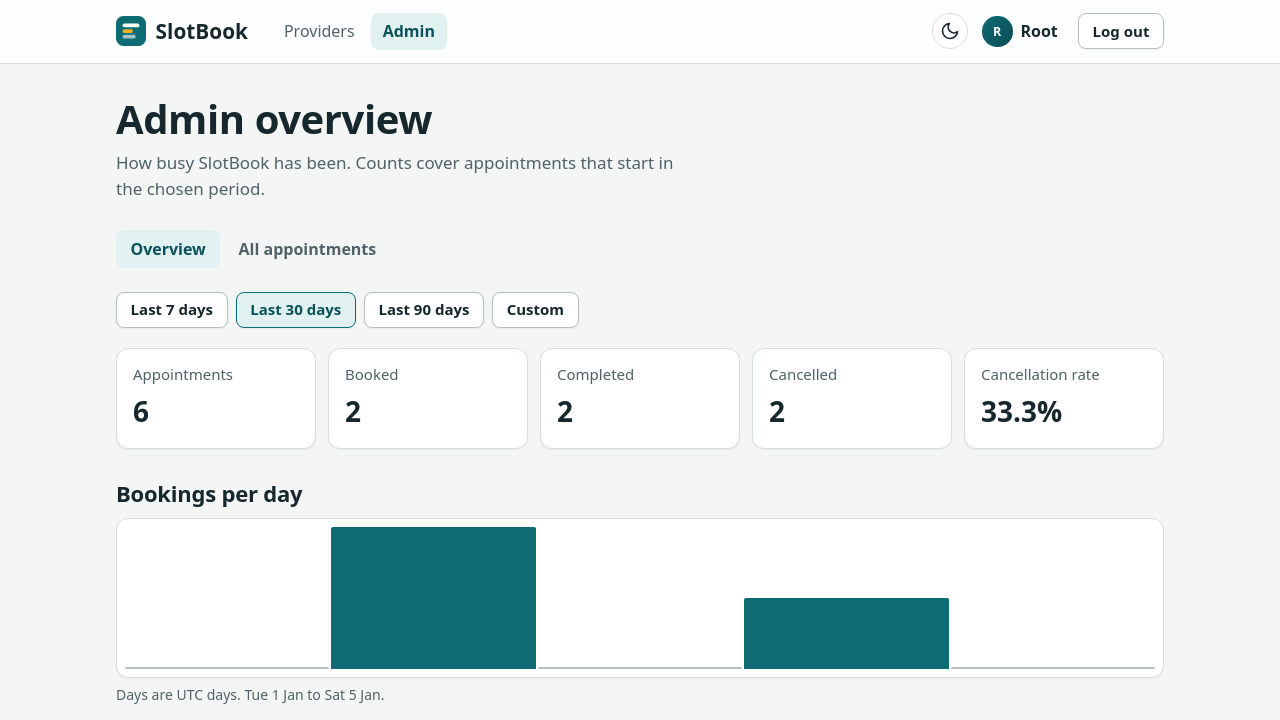
Test: admin overview › waits for both custom dates before asking the server
This screenshot has width=1280, height=720.
Expected: the picture named "Bookings per day" is shown, x1=116 y1=518 x2=1164 y2=678
Click the button "Custom" at (535, 310), box x1=492 y1=292 x2=579 y2=328
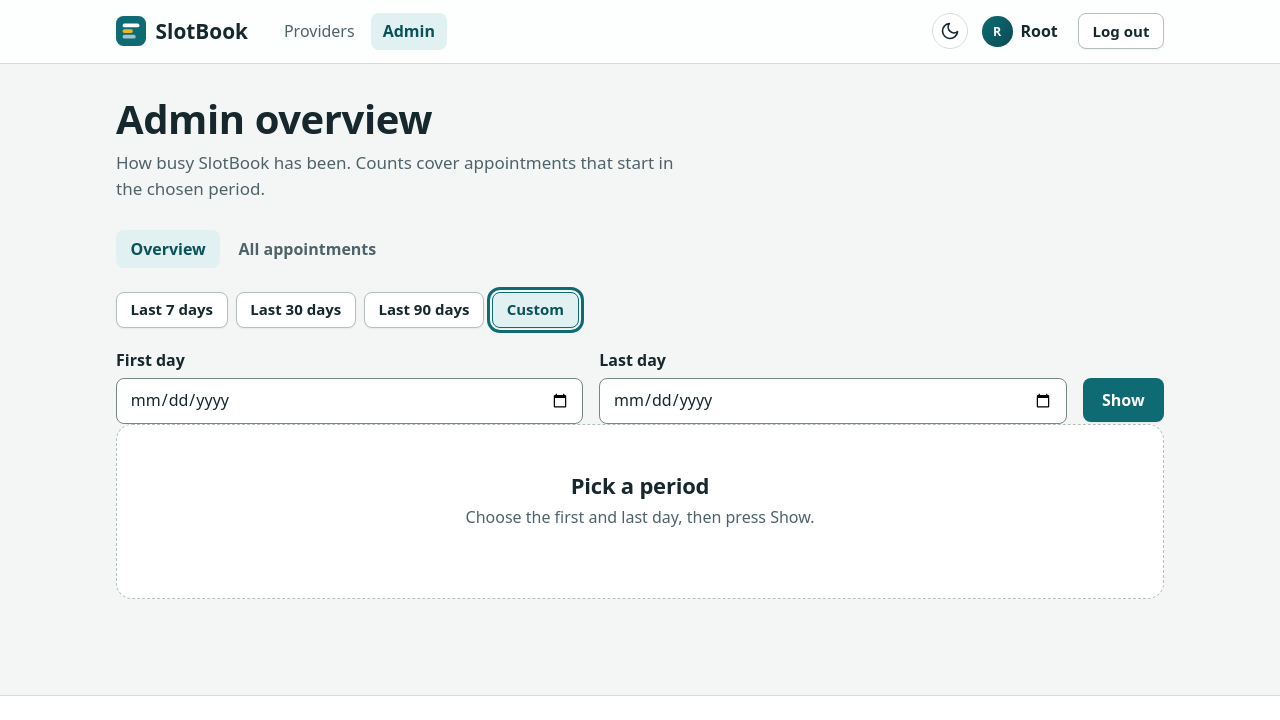
Now the heading "Pick a period" is shown, box x1=571 y1=470 x2=709 y2=500
Type "2030-01-01" into the date field labelled "First day" at (350, 401), box x1=116 y1=378 x2=583 y2=424
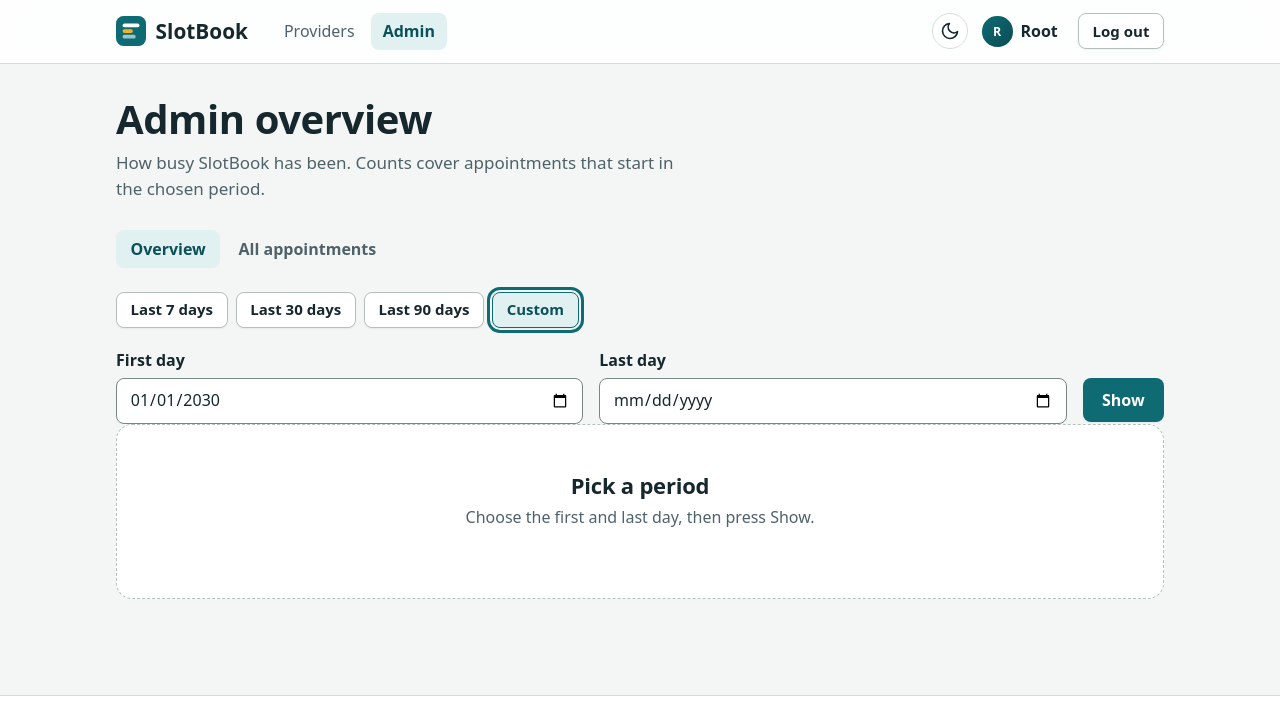
Type "2030-01-05" into the date field labelled "Last day" at (833, 401), box x1=599 y1=378 x2=1067 y2=424
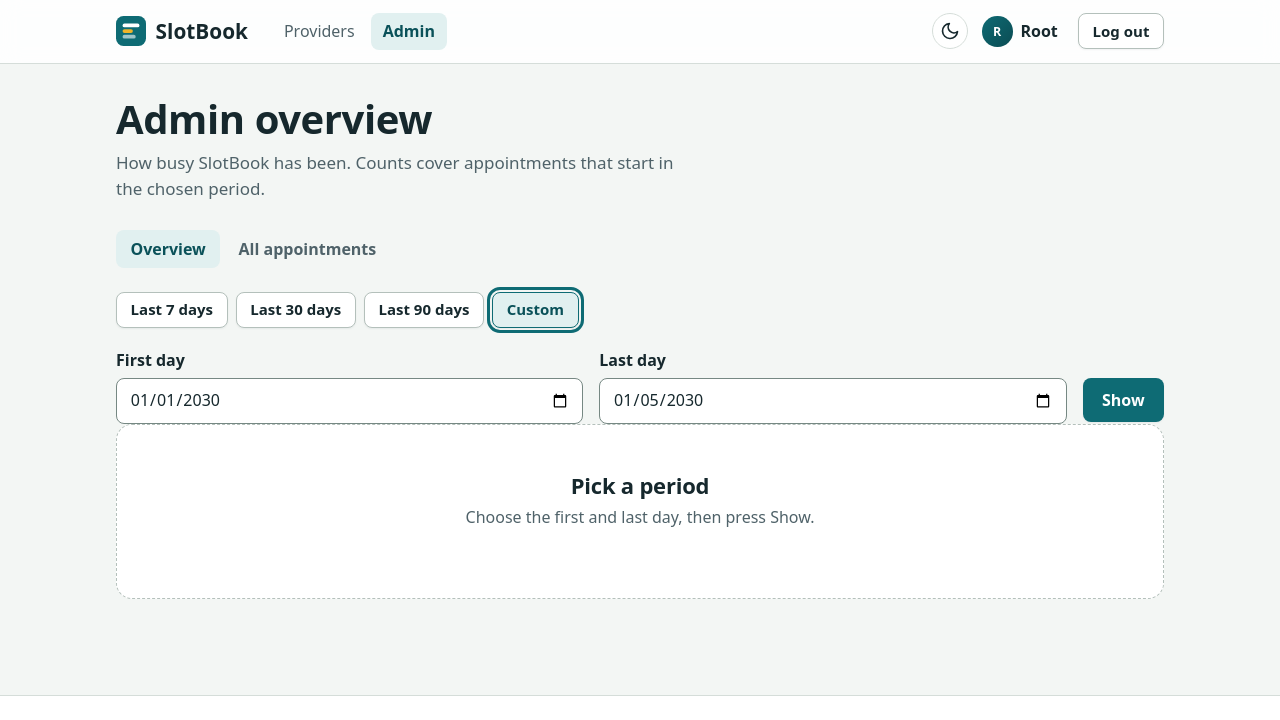
Click the button "Show" at (1123, 400), box x1=1083 y1=378 x2=1164 y2=422
(page scrolled)
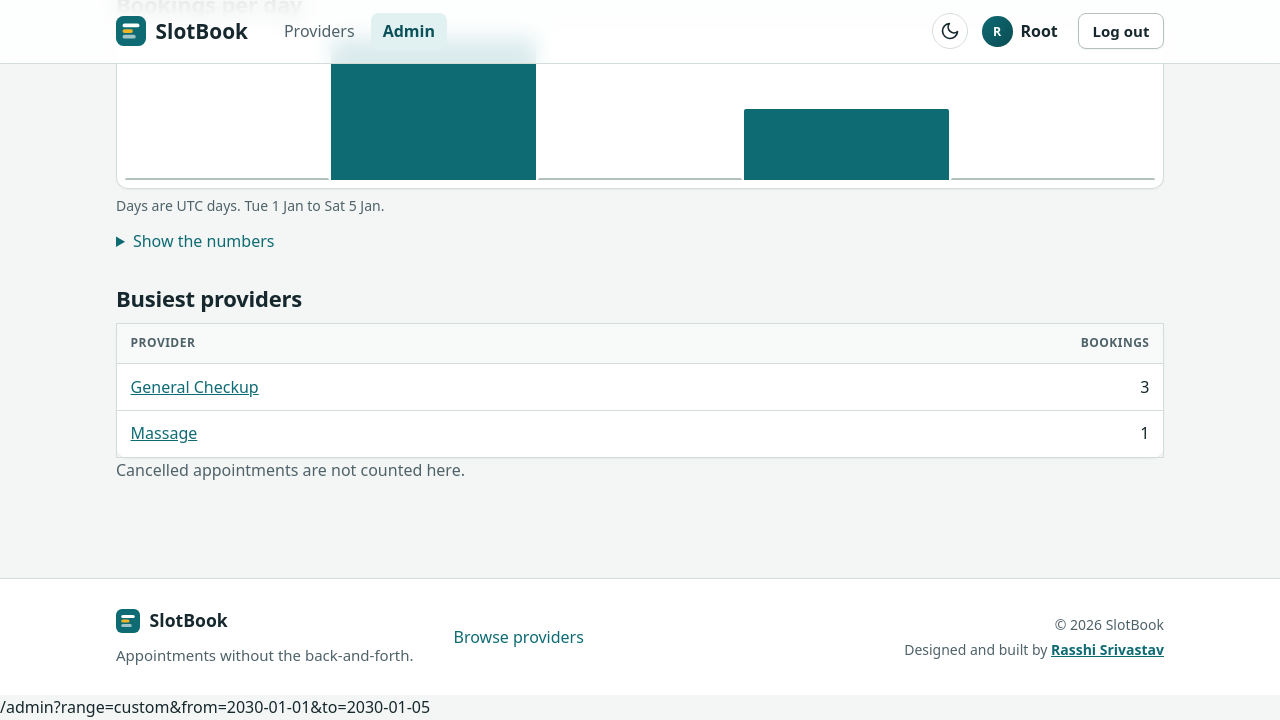
Now the text with test id "location" reads "/admin?range=custom&from=2030-01-01&to=2030-01-05", box x1=0 y1=696 x2=430 y2=718
